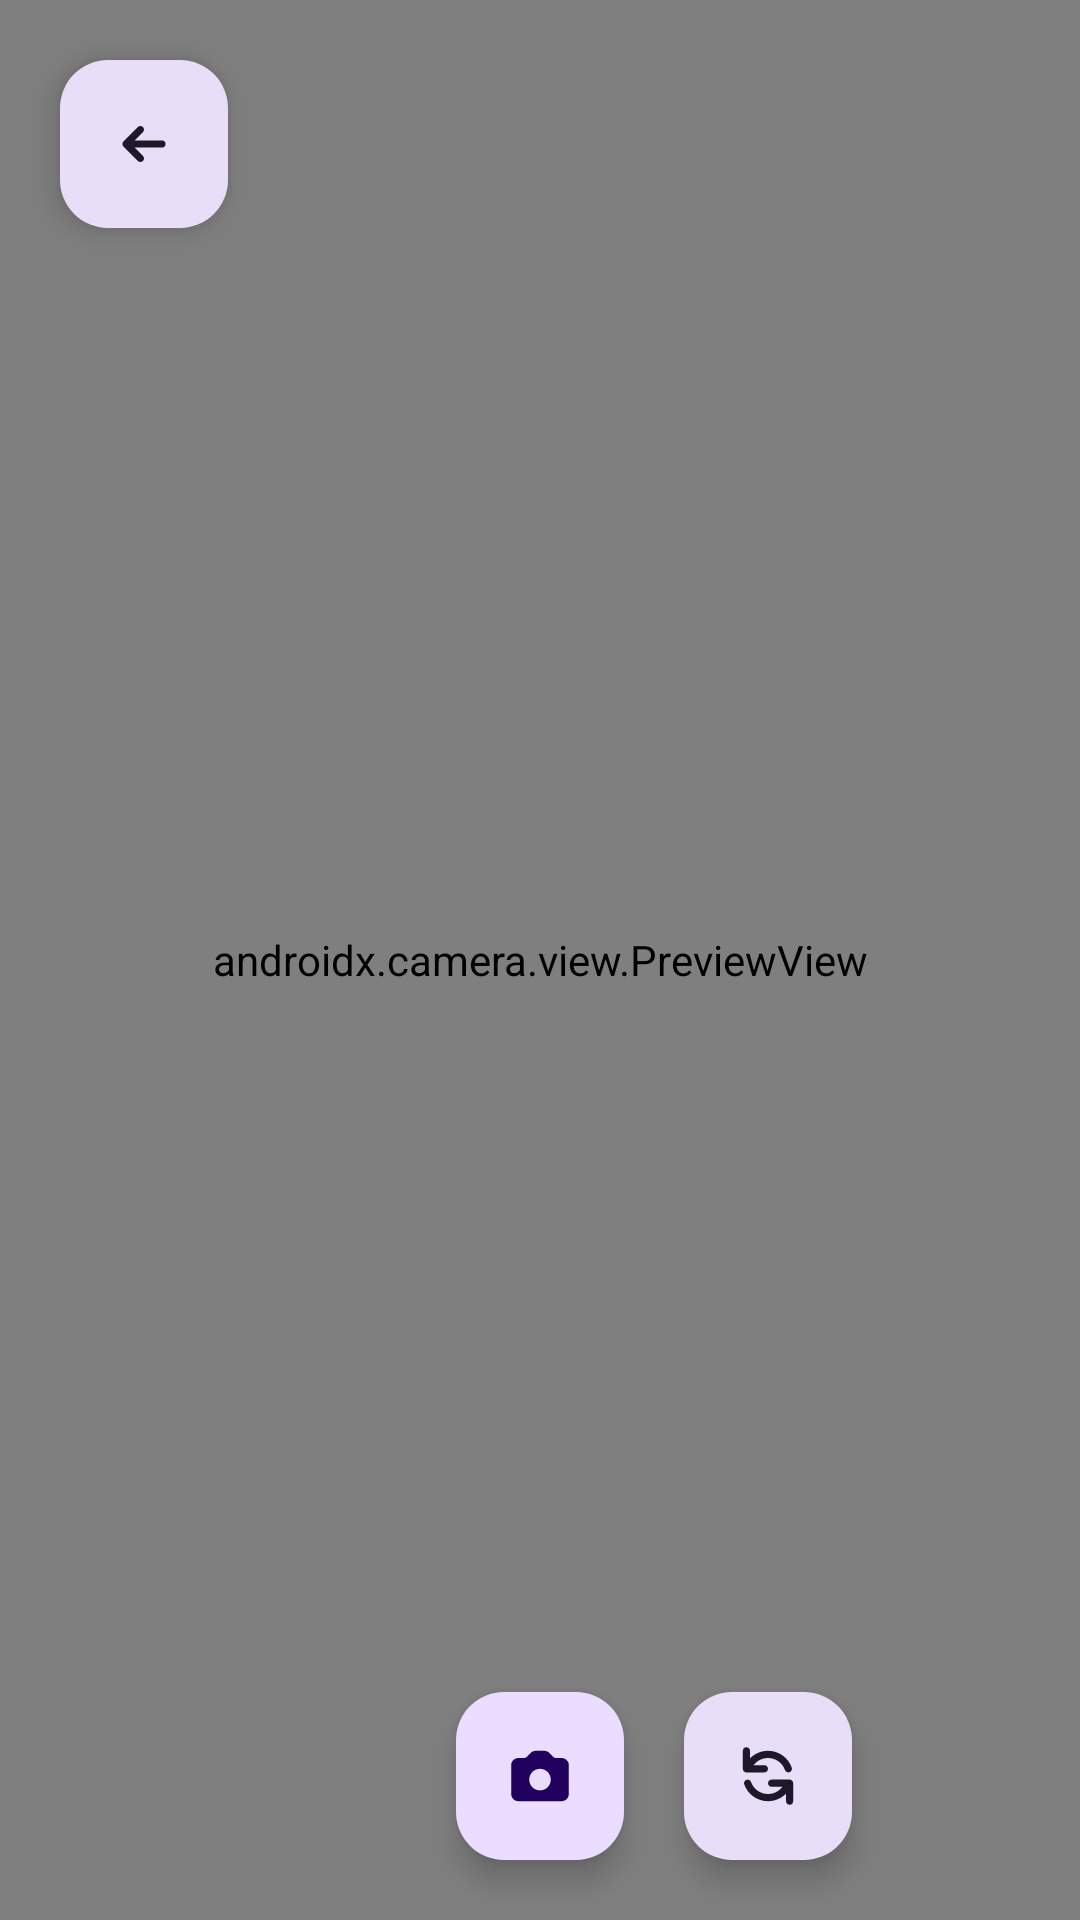

Where icons sit on this 1080*1920 app screen, as bbox=[x1, y1, x2, y2]:
arrow sm left: bbox=[60, 60, 228, 228]
refresh: bbox=[684, 1692, 852, 1860]
